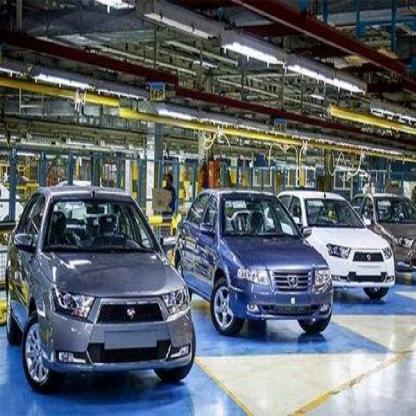Car: (2, 183, 198, 388), (176, 182, 336, 346), (277, 174, 382, 310), (361, 194, 416, 284)
